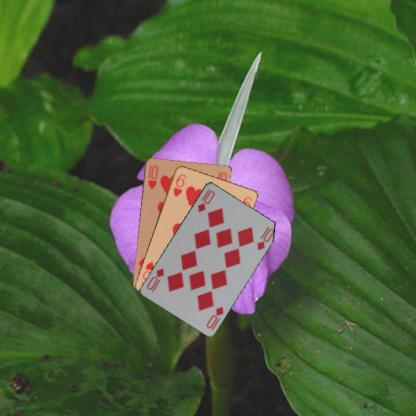10d: (203, 303, 225, 332), (195, 186, 216, 213)
10h: (145, 162, 159, 190)
6h: (171, 171, 188, 198)
